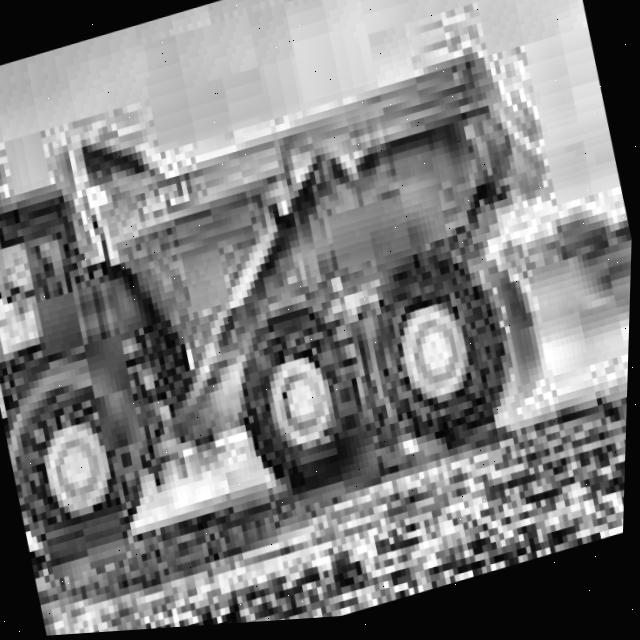dump_truck: (0, 0, 640, 636)
